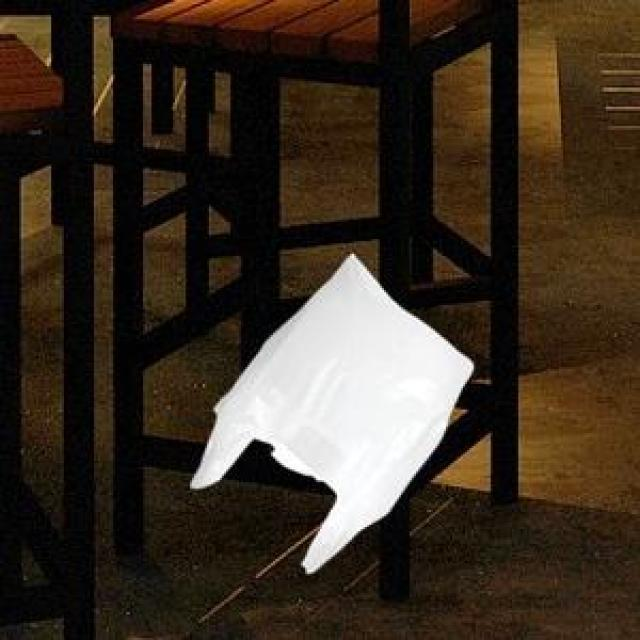waste: (190, 255, 474, 573)
